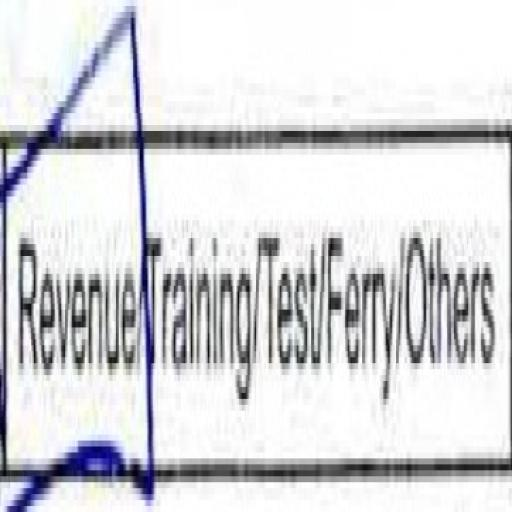check: (0, 6, 143, 512)
